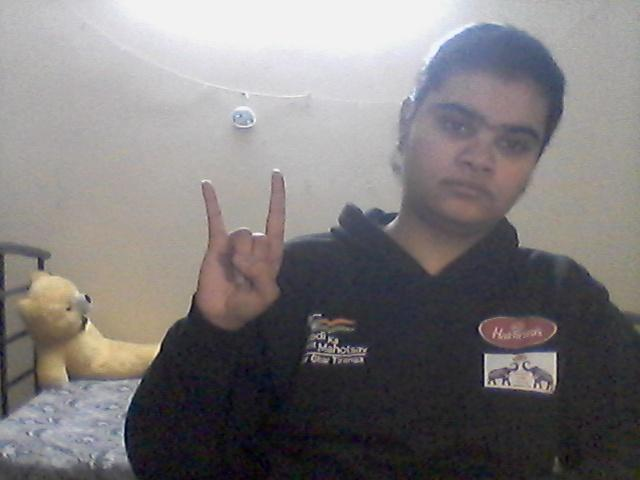ilove you: (196, 162, 301, 335)
